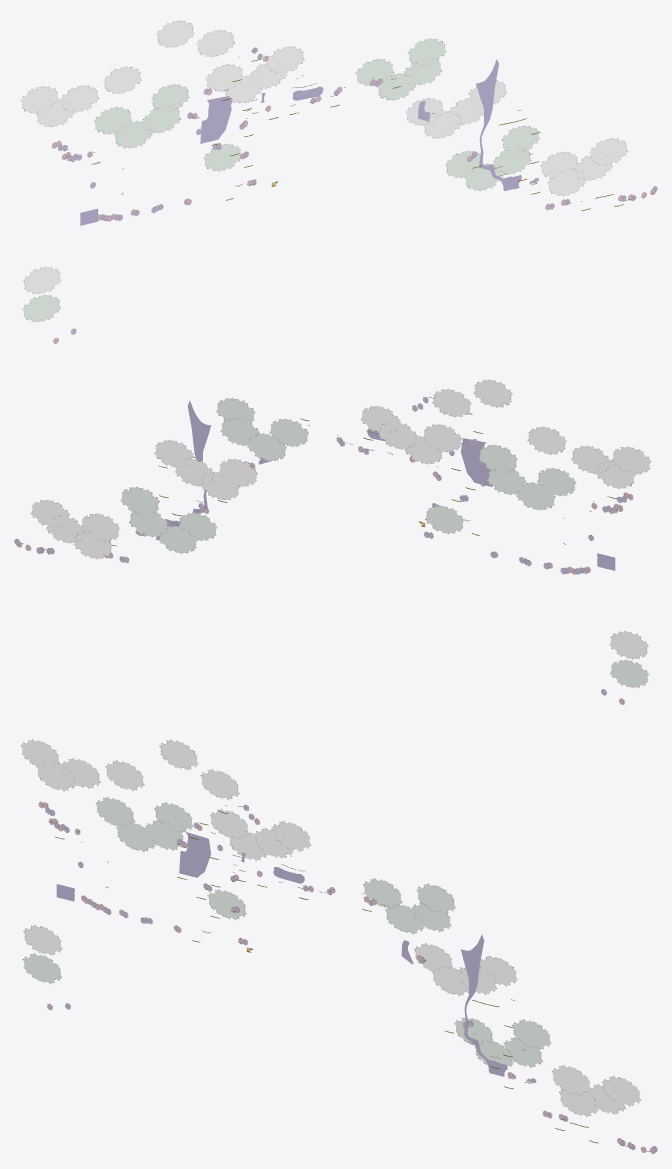
The model's file is kinoko02_bg.glb.
3 views of the same model, one above another, from view 1: azimuth 30°, elevation 25°; view 2: azimuth 150°, elevation 25°; view 3: azimuth 330°, elevation 25° (orthographic). The views are drawn at different scales.
Visible parts, largest first — view 1: kinoko02_bg; view 2: kinoko02_bg; view 3: kinoko02_bg.
Boxes of the visible parts, x1,y1,x2,y2 form: kinoko02_bg: (20,20,657,343); kinoko02_bg: (14,379,651,704); kinoko02_bg: (20,739,657,1153).
Bounding box in the file's own units: 5840 × 2549 × 296.
Materials: 8 (7 with a texture image).
